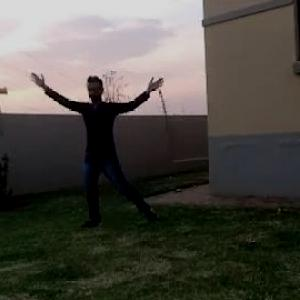takeoff: (26, 70, 166, 232)
